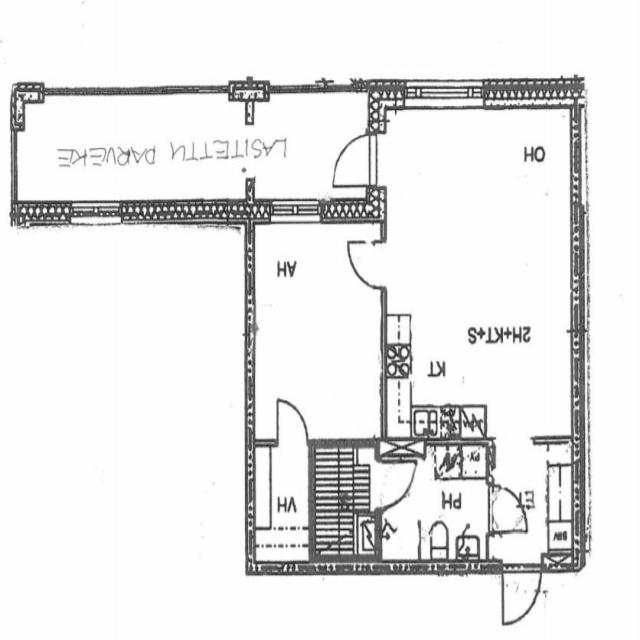door: (327, 123, 377, 192), (372, 448, 421, 510), (500, 564, 544, 628), (342, 229, 387, 291), (266, 391, 314, 446), (486, 483, 534, 538)
window: (404, 74, 484, 112), (265, 190, 327, 228), (67, 195, 124, 228)
zone: (384, 104, 582, 444), (250, 216, 386, 444), (377, 438, 490, 566), (309, 436, 376, 561), (250, 440, 310, 568)
